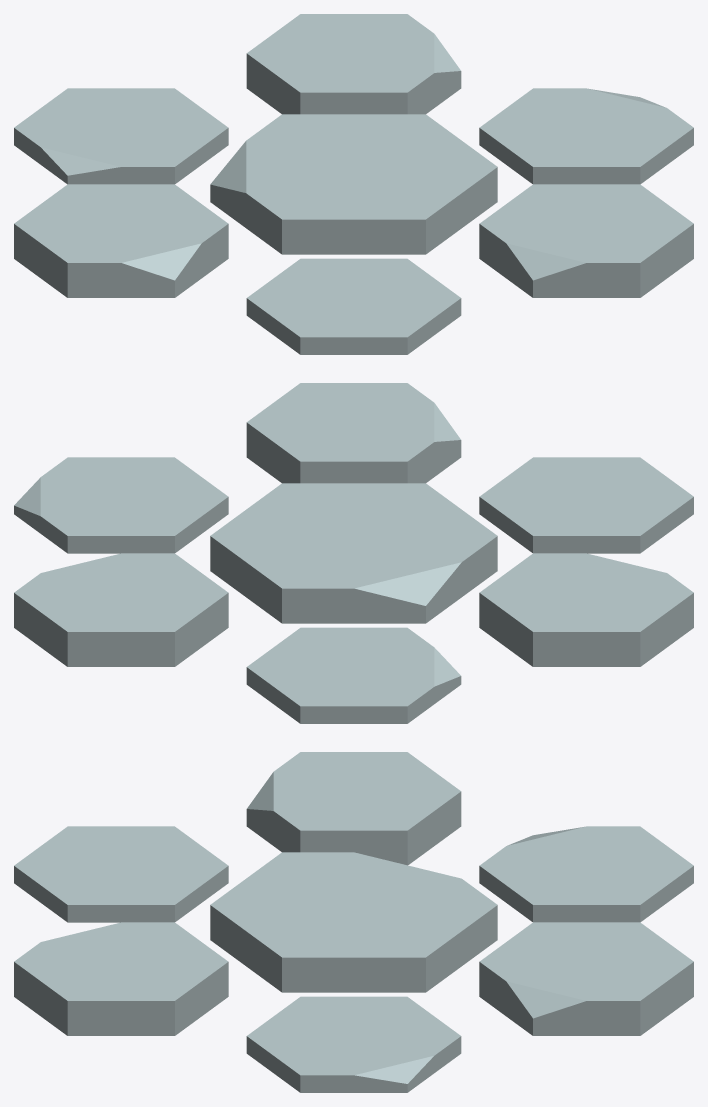
Rendered from path_stoneCircle.glb.
The picture shows the model from 3 angles, top to bottom: view 1: azimuth 30°, elevation 25°; view 2: azimuth 150°, elevation 25°; view 3: azimuth 270°, elevation 25°; orthographic projection.
Parts seen in each view (by area): view 1: path_stoneCircle; view 2: path_stoneCircle; view 3: path_stoneCircle.
Boxes of the visible parts, box(x1,y1,x2,y2) form: path_stoneCircle: box(14, 14, 693, 354); path_stoneCircle: box(14, 383, 693, 723); path_stoneCircle: box(14, 752, 693, 1092).
Size of the model in its own units: 0.9324 by 0.05 by 0.8766.
